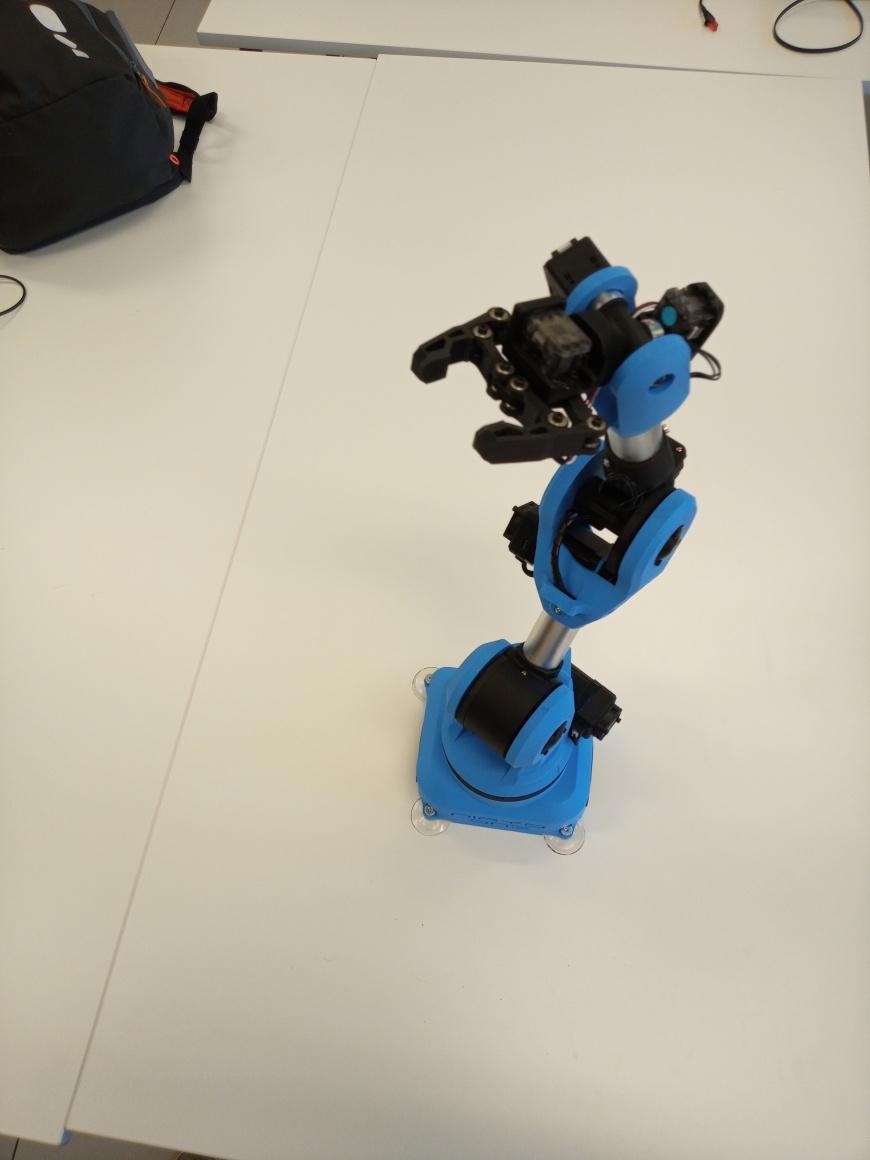robot: (402, 224, 733, 862)
